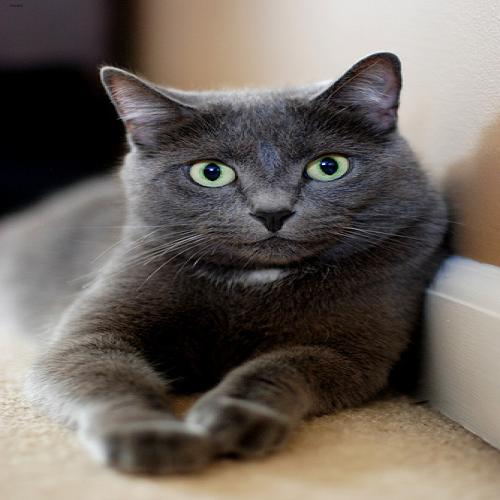rblue: (93, 54, 441, 289)
